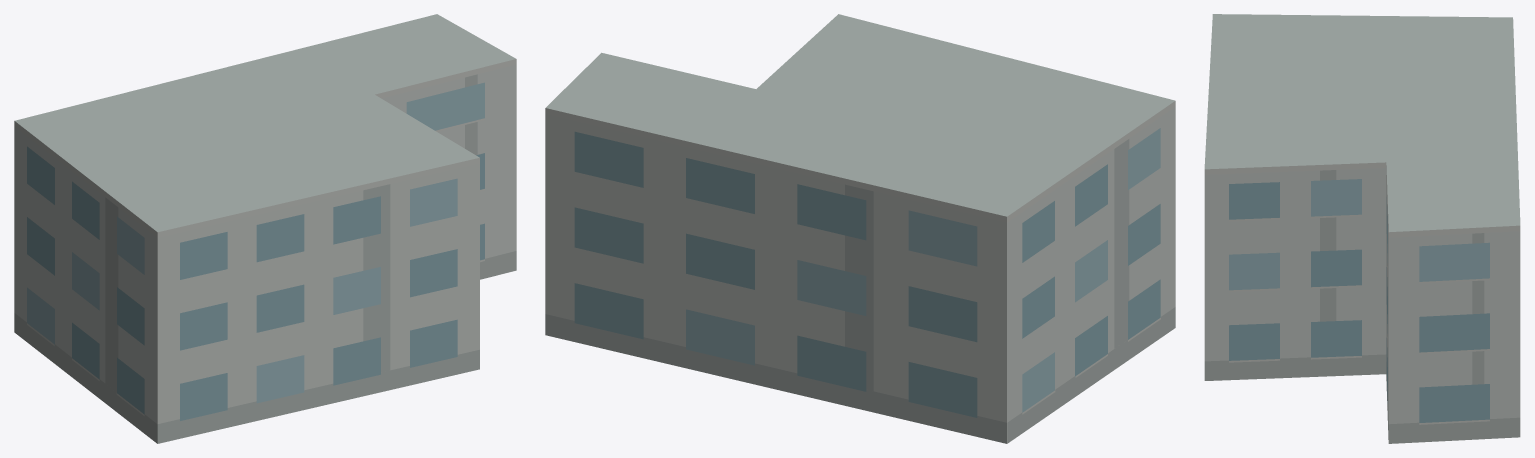
Rendered from survey-upis-32873812.glb.
3 renders of one model, left to right at view 1: azimuth 30°, elevation 25°; view 2: azimuth 150°, elevation 25°; view 3: azimuth 270°, elevation 25°, orthographic. The views are drawn at different scales.
Visible parts, largest first — view 1: survey-upis-32873812.tmp; view 2: survey-upis-32873812.tmp; view 3: survey-upis-32873812.tmp.
Part boxes in pixels (x1,y1,x2,y2): survey-upis-32873812.tmp: (14, 14, 516, 443); survey-upis-32873812.tmp: (545, 14, 1175, 443); survey-upis-32873812.tmp: (1204, 14, 1520, 443).
Size of the model in its own units: 20.23 by 9.15 by 12.39.
